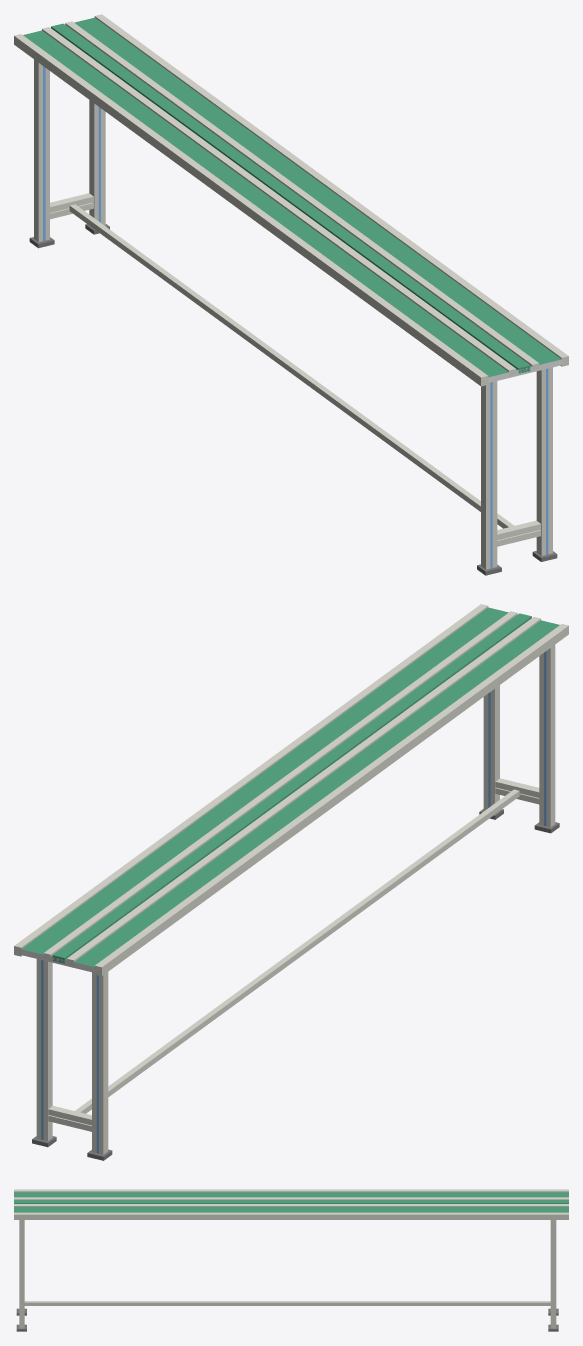
The model's file is transerBelt.glb.
3 renders of one model, top to bottom at view 1: azimuth 30°, elevation 25°; view 2: azimuth 150°, elevation 25°; view 3: azimuth 270°, elevation 25°, orthographic. The views are drawn at different scales.
Visible parts, largest first — view 1: 立方体.7-材质.2, 立方体.11, 立方体.8, 立方体.5, 立方体.10, 立方体.12, 立方体.9, 立方体.2-材质.1, 立方体-材质.1, 立方体.28-材质.1, 立方体.26-材质.1; view 2: 立方体.7-材质.2, 立方体.11, 立方体.8, 立方体.5, 立方体.10, 立方体.12, 立方体.9, 立方体.28-材质.1, 立方体.2-材质.1, 立方体.26-材质.1, 立方体-材质.1; view 3: 立方体.7-材质.2, 立方体.12, 立方体.5, 立方体.11, 立方体.8, 立方体.10, 立方体.9, 立方体.26-材质.1, 立方体-材质.1.
Boxes of the visible parts, box(x1,y1,x2,y2) form: 立方体.7-材质.2: box(23, 17, 561, 377); 立方体.11: box(14, 34, 488, 386); 立方体.8: box(51, 23, 530, 373); 立方体.5: box(69, 204, 514, 528); 立方体.10: box(42, 27, 516, 376); 立方体.12: box(94, 14, 568, 366); 立方体.9: box(65, 21, 539, 370); 立方体.2-材质.1: box(481, 381, 497, 569); 立方体-材质.1: box(536, 367, 552, 555); 立方体.28-材质.1: box(34, 59, 49, 242); 立方体.26-材质.1: box(89, 100, 105, 225); 立方体.7-材质.2: box(21, 607, 559, 966); 立方体.11: box(94, 624, 568, 976); 立方体.8: box(52, 613, 531, 963); 立方体.5: box(75, 789, 519, 1113); 立方体.10: box(66, 617, 540, 965); 立方体.12: box(14, 604, 488, 956); 立方体.9: box(43, 611, 517, 960); 立方体.28-材质.1: box(92, 972, 108, 1154); 立方体.2-材质.1: box(539, 645, 555, 827); 立方体.26-材质.1: box(36, 959, 52, 1141); 立方体-材质.1: box(483, 685, 499, 810); 立方体.7-材质.2: box(14, 1192, 568, 1212); 立方体.12: box(14, 1212, 568, 1219); 立方体.5: box(24, 1301, 550, 1305); 立方体.11: box(14, 1189, 568, 1192); 立方体.8: box(14, 1200, 568, 1203); 立方体.10: box(14, 1197, 568, 1199); 立方体.9: box(14, 1204, 568, 1206); 立方体.26-材质.1: box(550, 1220, 556, 1328); 立方体-材质.1: box(19, 1220, 24, 1328).
Bounding box in the file's own units: 20.46 × 44.85 × 188.
